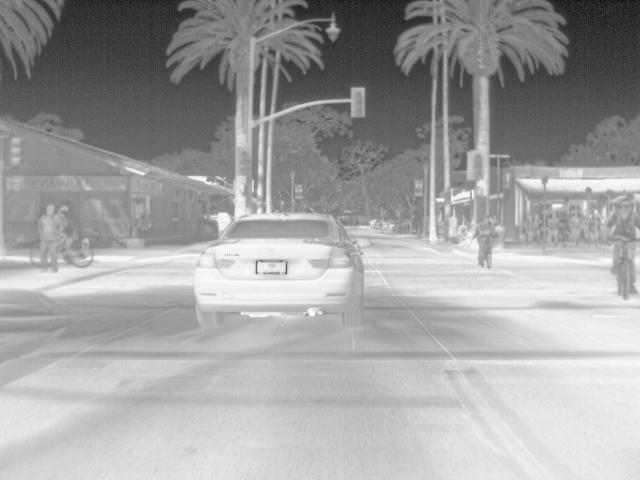car: (195, 212, 365, 327), (385, 218, 399, 234), (369, 218, 381, 230), (375, 218, 387, 230)
person: (39, 204, 67, 273), (610, 195, 639, 253), (544, 209, 563, 249), (60, 200, 78, 241), (477, 213, 497, 242), (589, 209, 603, 249), (567, 209, 581, 246), (578, 209, 590, 246), (532, 212, 543, 246), (525, 213, 535, 241)
